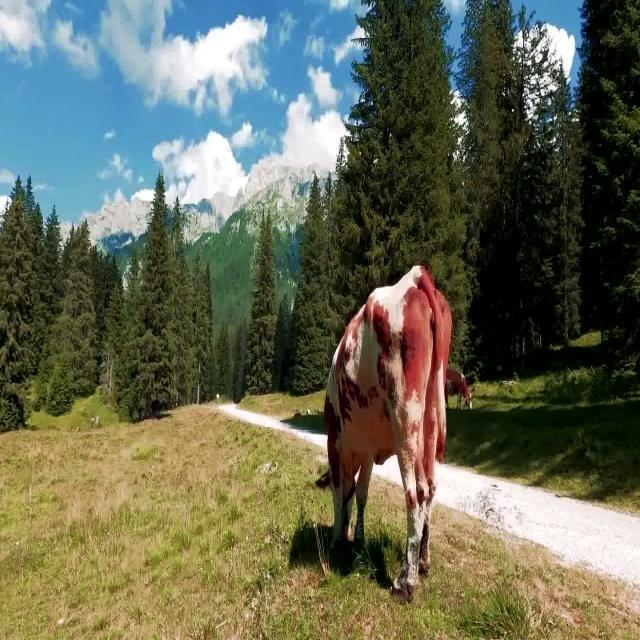cow: (325, 265, 451, 599)
